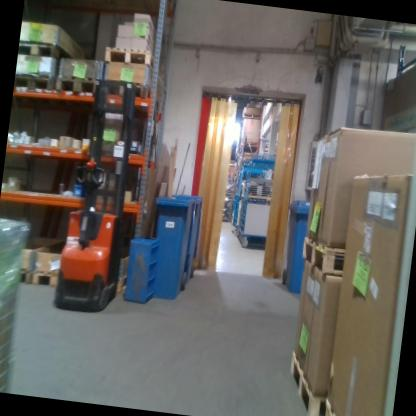pallet: (284, 349, 331, 416), (101, 43, 166, 83), (299, 233, 347, 280), (100, 77, 162, 112), (17, 35, 77, 67), (54, 68, 101, 99), (13, 68, 56, 98), (30, 268, 60, 288), (324, 400, 354, 416), (13, 268, 32, 290), (114, 273, 131, 297)
pallet_truck: (50, 65, 148, 319)
stillage: (0, 213, 36, 393)
